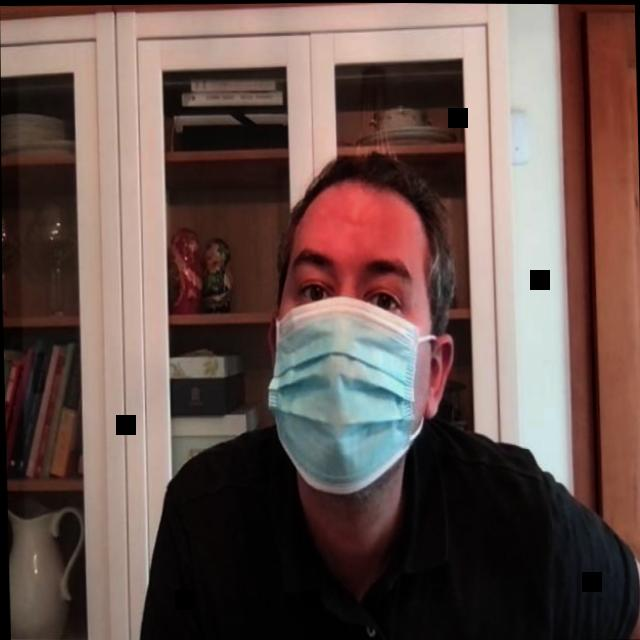Mask: (259, 145, 458, 505)
